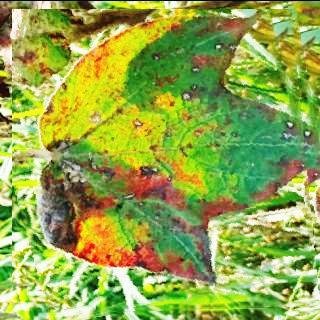blight: (12, 8, 320, 314)
